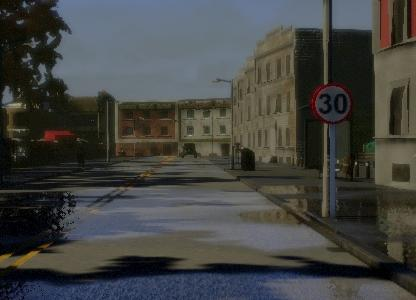Speed_30: (309, 85, 358, 127)
